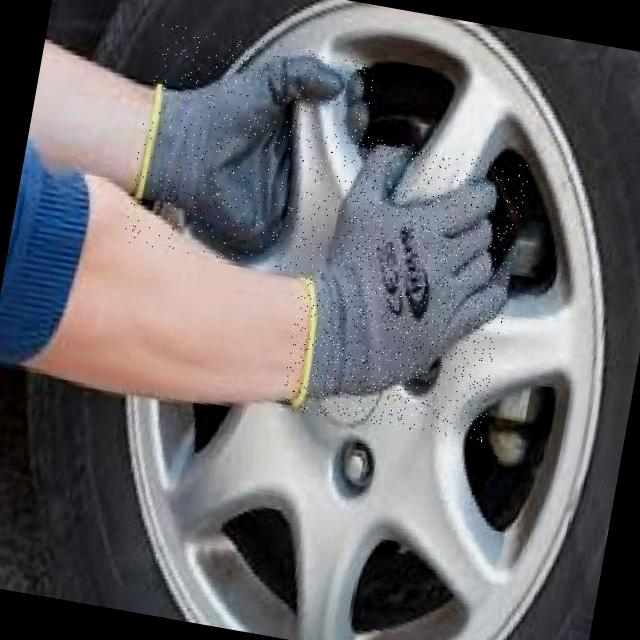gloves: (284, 141, 522, 439), (132, 28, 350, 261)
